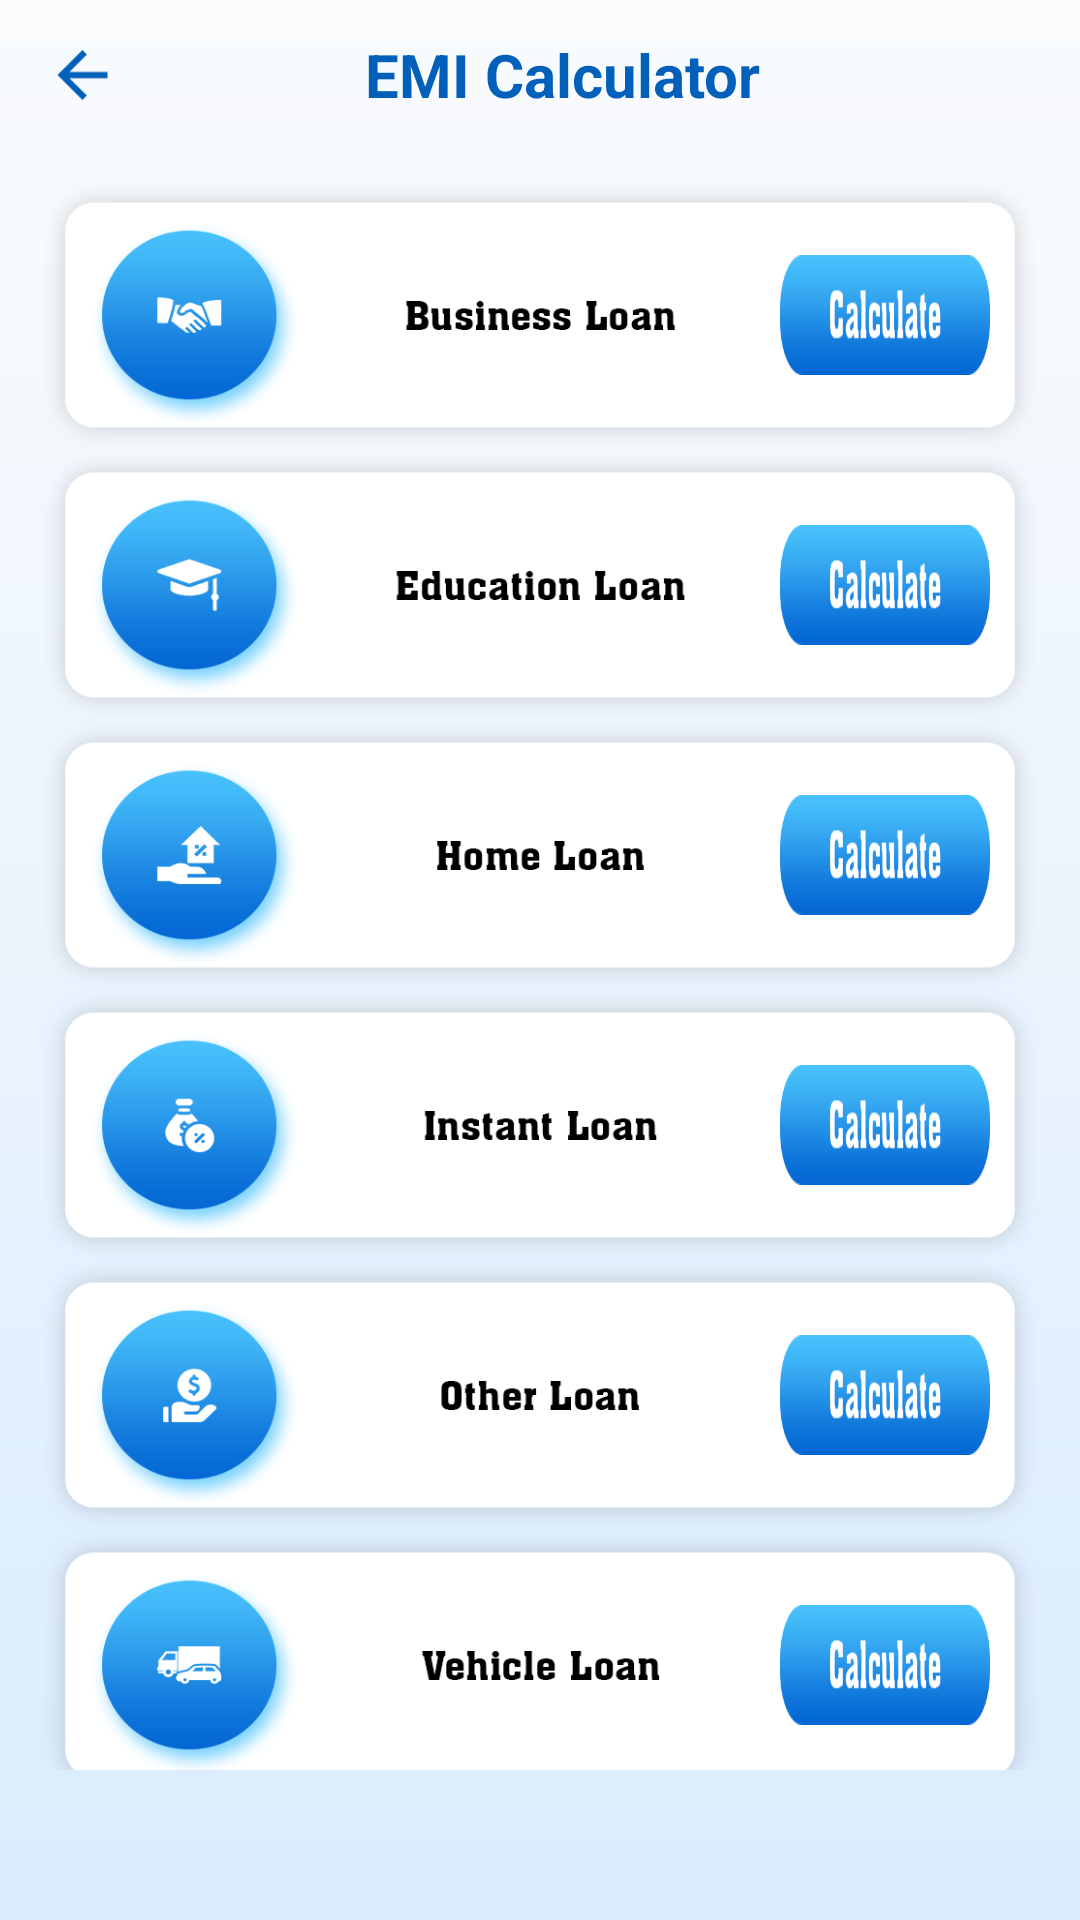

Icon bounding boxes for this 1080×1920 phone screenshot, format {"left": x1, "top": y1, "right": x2, "bottom": y2}:
arrow back: {"left": 57, "top": 49, "right": 108, "bottom": 101}
